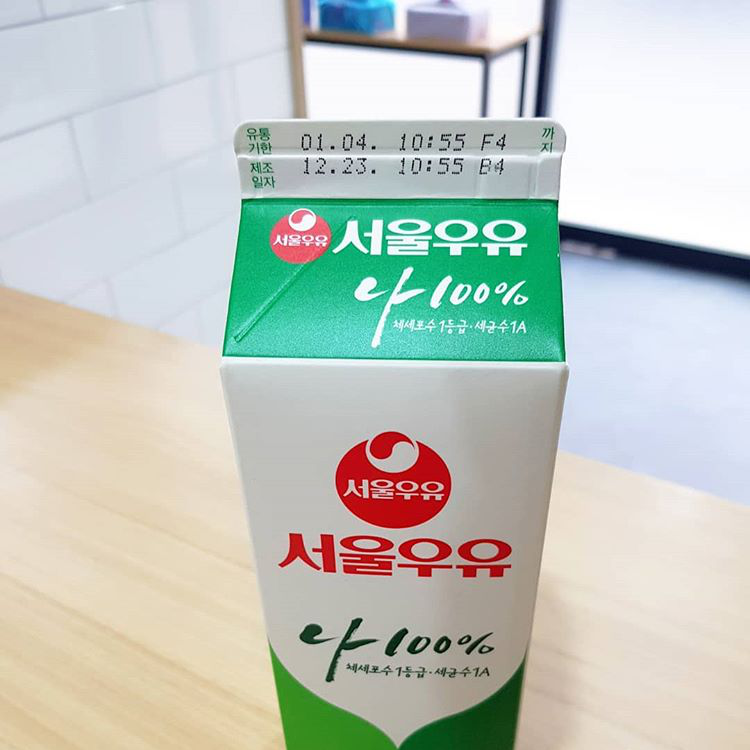milk: (222, 119, 572, 750)
